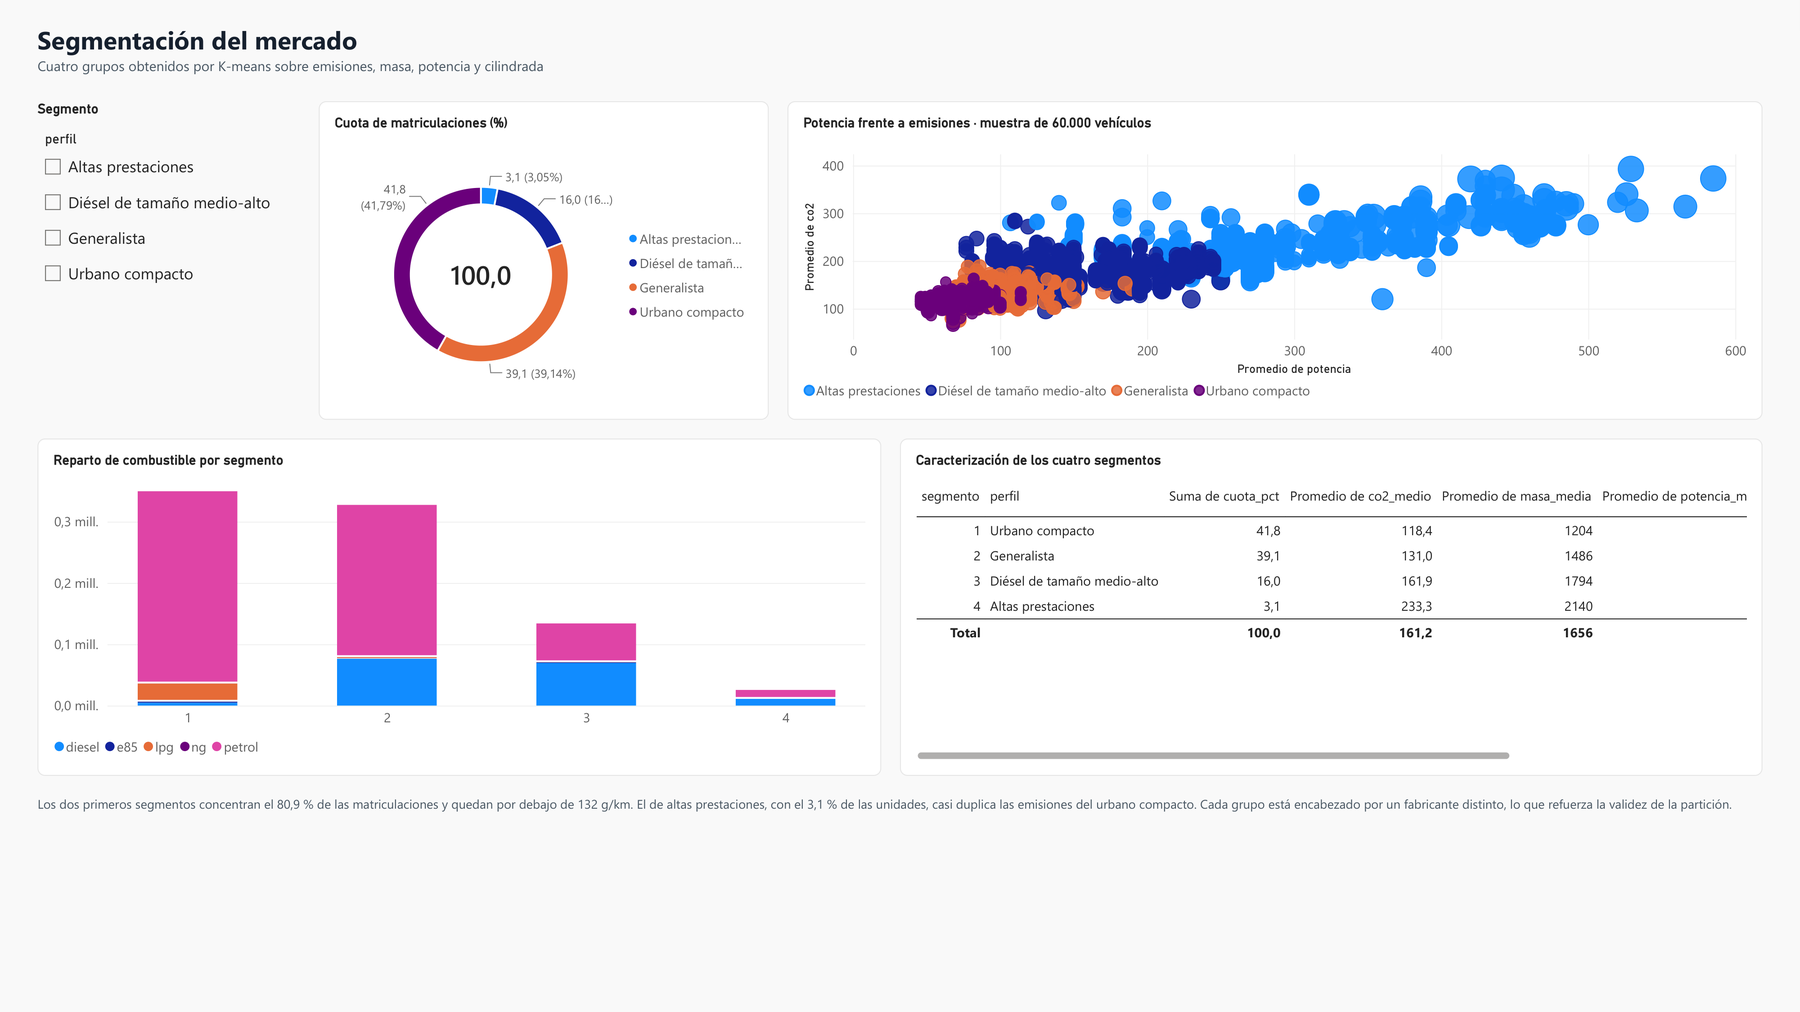

Layout of this report page (visuals, bound fields, positions):
{"tool":"powerbi","page":{"name":"Segmentación del mercado","canvas":[1920,1080],"ordinal":1},"visuals":[{"type":"textbox","box":[40,24,1300,70],"z":0},{"type":"slicer","title":"Segmento","fields":{"Values":["segmentos.perfil"]},"box":[40,108,280,340],"z":1},{"type":"donutChart","title":"Cuota de matriculaciones (%)","fields":{"Category":["segmentos.perfil"],"Y":["Sum(segmentos.cuota_pct)"]},"box":[340,108,480,340],"z":2},{"type":"scatterChart","title":"Potencia frente a emisiones · muestra de 60.000 vehículos","fields":{"Category":["vehiculos_muestra.id"],"Series":["vehiculos_muestra.perfil"],"Size":["Avg(vehiculos_muestra.cilindrada)"],"X":["Avg(vehiculos_muestra.potencia)"],"Y":["Avg(vehiculos_muestra.co2)"]},"box":[840,108,1040,340],"z":3},{"type":"columnChart","title":"Reparto de combustible por segmento","fields":{"Category":["segmentos_combustible.segmento"],"Series":["segmentos_combustible.ft_norm"],"Y":["Sum(segmentos_combustible.vehiculos)"]},"box":[40,468,900,360],"z":4},{"type":"tableEx","title":"Caracterización de los cuatro segmentos","fields":{"Values":["segmentos.segmento","segmentos.perfil","Sum(segmentos.cuota_pct)","Avg(segmentos.co2_medio)","Avg(segmentos.masa_media)","Avg(segmentos.potencia_media)","Avg(segmentos.cilindrada_media)","segmentos.marca_dominante"]},"box":[960,468,920,360],"z":5},{"type":"textbox","box":[40,848,1840,90],"z":6}]}

Visuals, with their boxes in screenshot pixels (x1, y1, x2, y2), scaled from the page's 1920x1080 canvas onto the 1800x1012 screenshot:
textbox: left=38, top=22, right=1256, bottom=88
"Segmento" slicer: left=38, top=101, right=300, bottom=420
"Cuota de matriculaciones (%)" donutChart: left=319, top=101, right=769, bottom=420
"Potencia frente a emisiones · muestra de 60.000 vehículos" scatterChart: left=788, top=101, right=1762, bottom=420
"Reparto de combustible por segmento" columnChart: left=38, top=439, right=881, bottom=776
"Caracterización de los cuatro segmentos" tableEx: left=900, top=439, right=1762, bottom=776
textbox: left=38, top=795, right=1762, bottom=879
